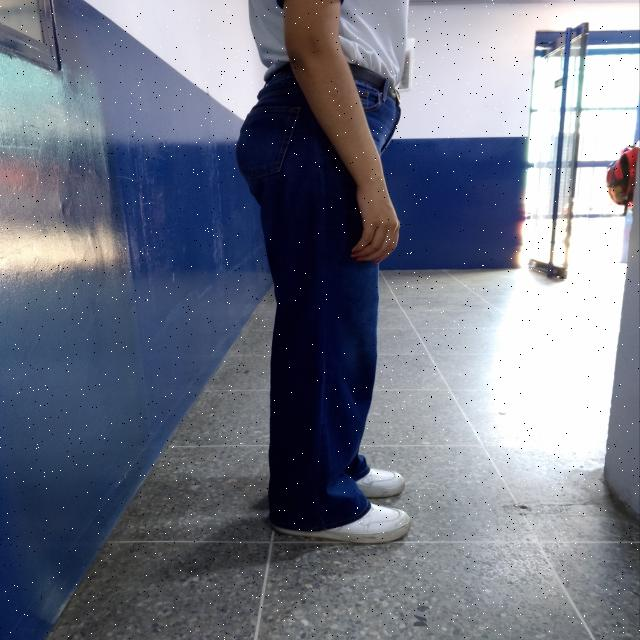pantalon_oscuro: (234, 76, 401, 534)
